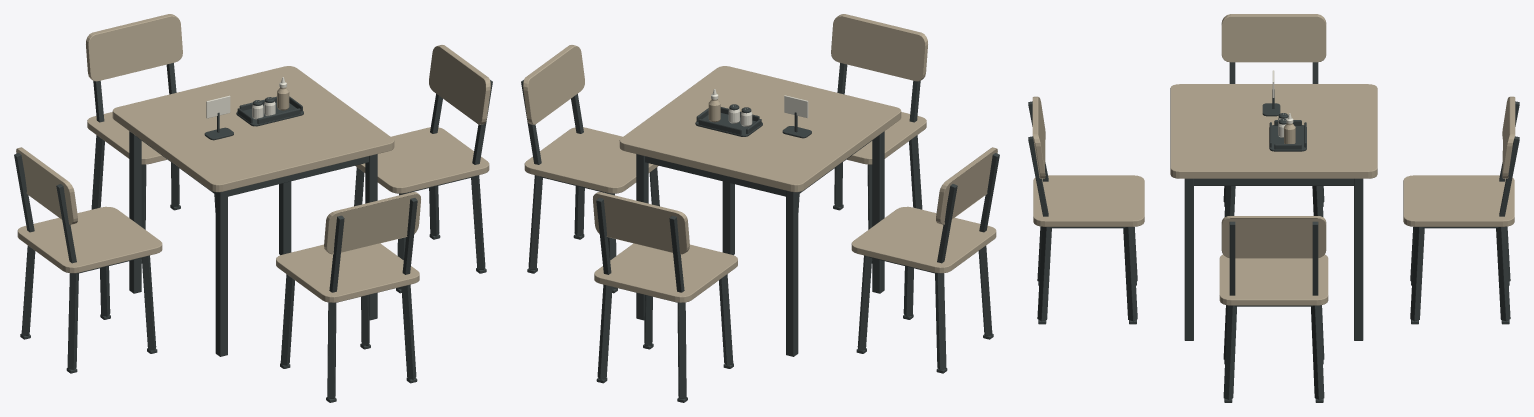
The picture shows the model from 3 angles, left to right: view 1: azimuth 30°, elevation 25°; view 2: azimuth 150°, elevation 25°; view 3: azimuth 270°, elevation 25°; orthographic projection.
Parts seen in each view (by area): view 1: Table_Geometry, Chair_North_Geometry, Chair_West_Geometry, Chair_East_Geometry, Chair_South_Geometry, CondimentTray_Geometry, TableNumberStand_Geometry; view 2: Table_Geometry, Chair_South_Geometry, Chair_West_Geometry, Chair_East_Geometry, Chair_North_Geometry, CondimentTray_Geometry, TableNumberStand_Geometry; view 3: Table_Geometry, Chair_East_Geometry, Chair_North_Geometry, Chair_South_Geometry, Chair_West_Geometry, CondimentTray_Geometry.
Part boxes in pixels (bbox=[...]): Table_Geometry: bbox=[112, 66, 394, 356]; Chair_North_Geometry: bbox=[276, 192, 420, 402]; Chair_West_Geometry: bbox=[14, 147, 162, 373]; Chair_East_Geometry: bbox=[354, 45, 492, 293]; Chair_South_Geometry: bbox=[86, 14, 215, 263]; CondimentTray_Geometry: bbox=[236, 77, 303, 126]; TableNumberStand_Geometry: bbox=[204, 95, 233, 140]; Table_Geometry: bbox=[619, 66, 901, 356]; Chair_South_Geometry: bbox=[593, 192, 737, 402]; Chair_West_Geometry: bbox=[851, 147, 999, 373]; Chair_East_Geometry: bbox=[521, 45, 659, 293]; Chair_North_Geometry: bbox=[798, 14, 927, 263]; CondimentTray_Geometry: bbox=[695, 89, 762, 136]; TableNumberStand_Geometry: bbox=[782, 95, 811, 138]; Table_Geometry: bbox=[1170, 84, 1377, 340]; Chair_East_Geometry: bbox=[1219, 216, 1328, 402]; Chair_North_Geometry: bbox=[1028, 96, 1144, 324]; Chair_South_Geometry: bbox=[1403, 96, 1519, 324]; Chair_West_Geometry: bbox=[1221, 14, 1326, 216]; CondimentTray_Geometry: bbox=[1269, 113, 1306, 151].
Size of the model in its own units: 1.9 by 0.8985 by 1.9.
